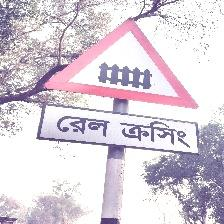Rail-crossing: (37, 17, 201, 157)
